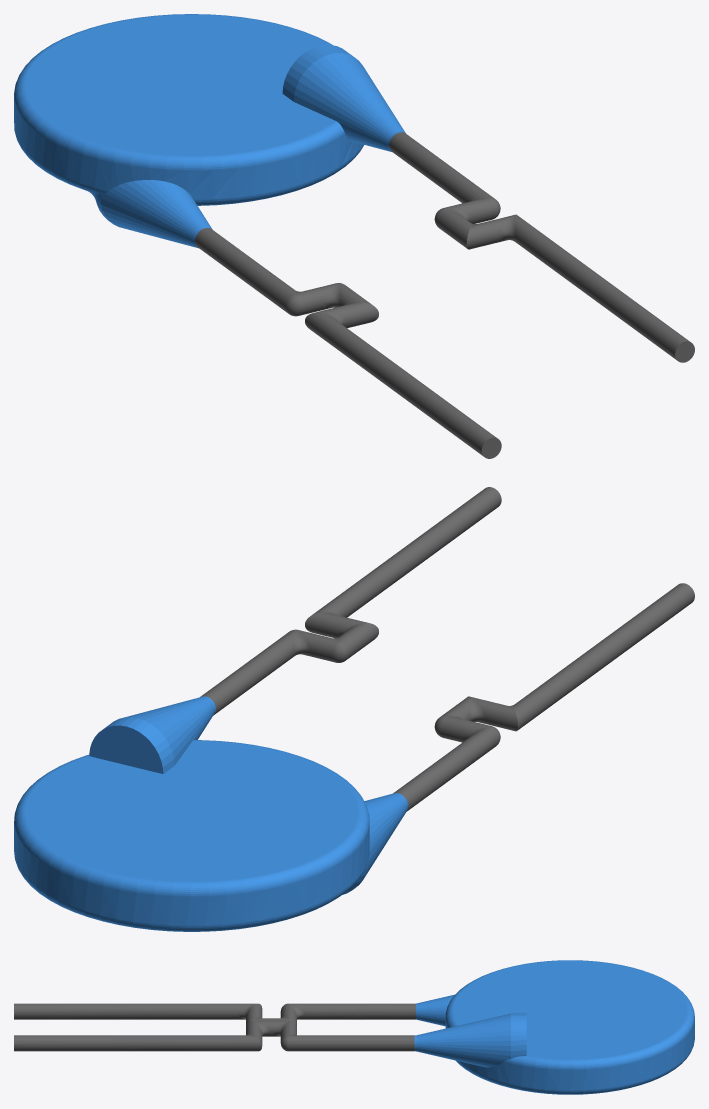
The model's file is PTC.fbx.
The picture shows the model from 3 angles, top to bottom: view 1: azimuth 30°, elevation 25°; view 2: azimuth 150°, elevation 25°; view 3: azimuth 270°, elevation 25°; orthographic projection. The views are drawn at different scales.
Parts seen in each view (by area): view 1: PTC; view 2: PTC; view 3: PTC.
Part boxes in pixels (box(x1,y1,x2,y2)): PTC: box(14, 14, 694, 458); PTC: box(14, 487, 694, 931); PTC: box(14, 960, 694, 1094).
Bounding box in the file's own units: 790 × 310 × 2155.
